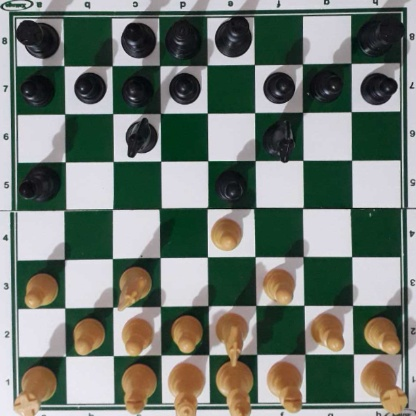black-bishop: (16, 164, 61, 201), (118, 19, 158, 56)
black-king: (213, 12, 254, 58)
black-knight: (263, 117, 297, 161), (124, 116, 156, 155)
black-pawn: (360, 69, 396, 105), (214, 166, 247, 202), (263, 67, 295, 102), (168, 69, 199, 105), (20, 72, 54, 104), (311, 66, 342, 101), (121, 71, 152, 106), (73, 70, 104, 104)
black-queen: (164, 16, 202, 62)
black-rook: (358, 10, 402, 55), (12, 16, 59, 58)
white-bishop: (264, 361, 306, 416), (120, 363, 155, 411)
white-king: (214, 358, 254, 416)
white-knight: (214, 310, 249, 366), (115, 264, 150, 308)
white-pawn: (310, 311, 346, 351), (364, 313, 400, 352), (21, 271, 58, 307), (260, 266, 295, 304), (120, 316, 154, 354), (71, 315, 105, 352), (169, 314, 202, 352), (209, 215, 242, 250)
white-queen: (166, 361, 206, 416)
white-rook: (362, 358, 405, 414), (15, 360, 55, 415)
